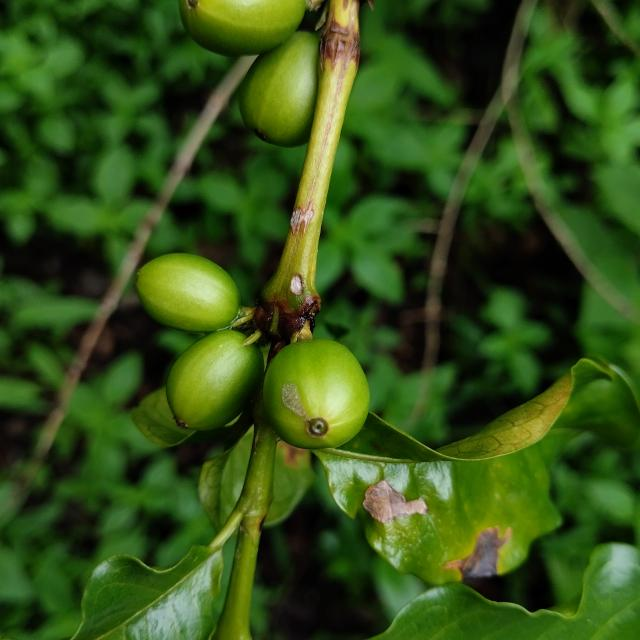green: (262, 339, 370, 450), (166, 330, 264, 431), (239, 31, 319, 146), (135, 253, 240, 333), (179, 0, 306, 55)
